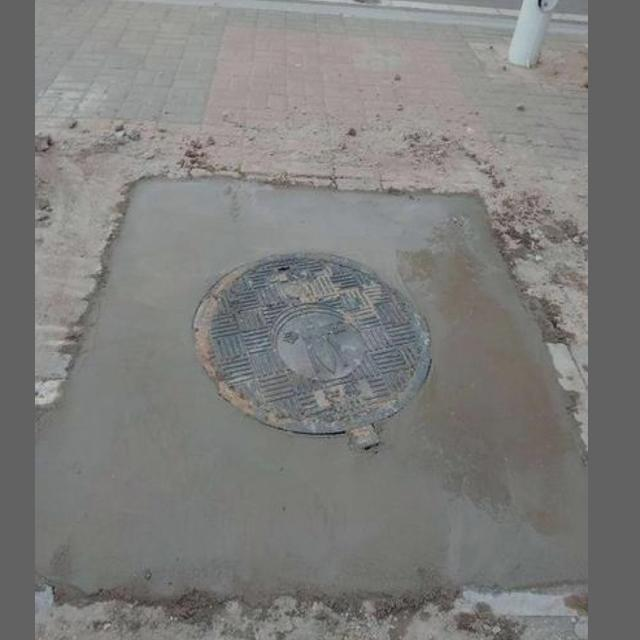good: (55, 173, 572, 619)
